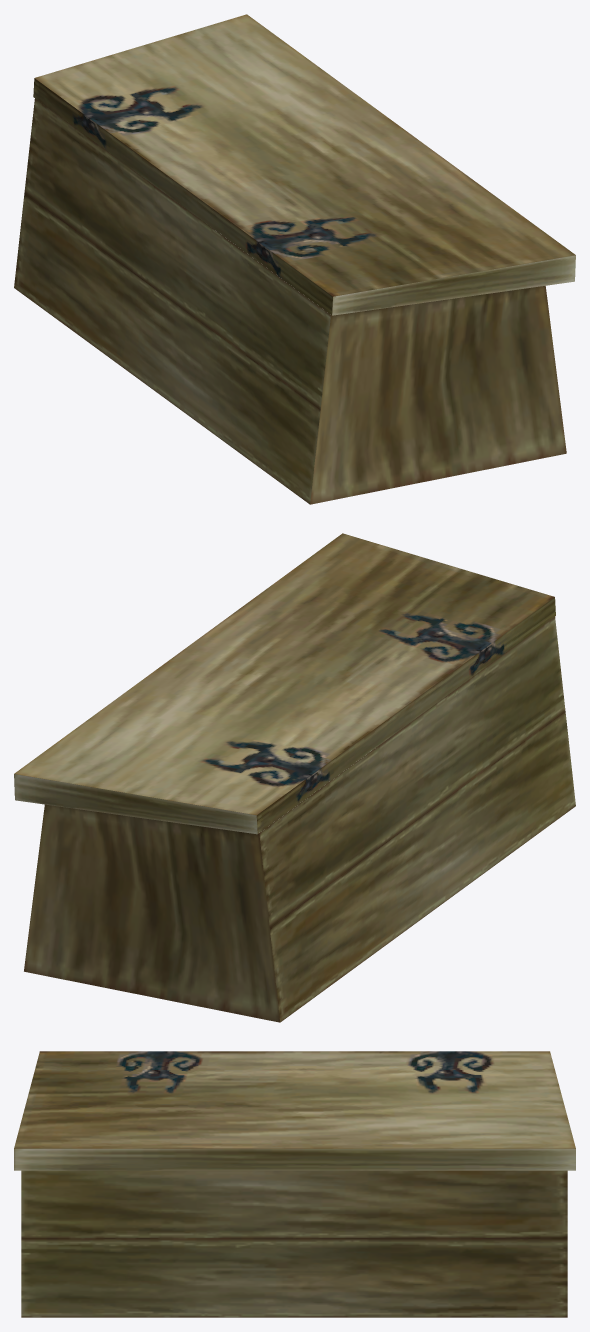
File: duskwoodfootlocker01.obj
3 views of the same model, one above another, from view 1: azimuth 30°, elevation 25°; view 2: azimuth 150°, elevation 25°; view 3: azimuth 270°, elevation 25° (orthographic). The views are drawn at different scales.
Visible parts, largest first — view 1: duskwoodfootlocker01.m2; view 2: duskwoodfootlocker01.m2; view 3: duskwoodfootlocker01.m2.
Part boxes in pixels (box(x1,y1,x2,y2)): duskwoodfootlocker01.m2: box(14, 14, 575, 504); duskwoodfootlocker01.m2: box(14, 533, 575, 1022); duskwoodfootlocker01.m2: box(14, 1051, 575, 1317).
Bounding box in the file's own units: 0.6085 × 0.4736 × 1.39.
1 material, 1 textured.
